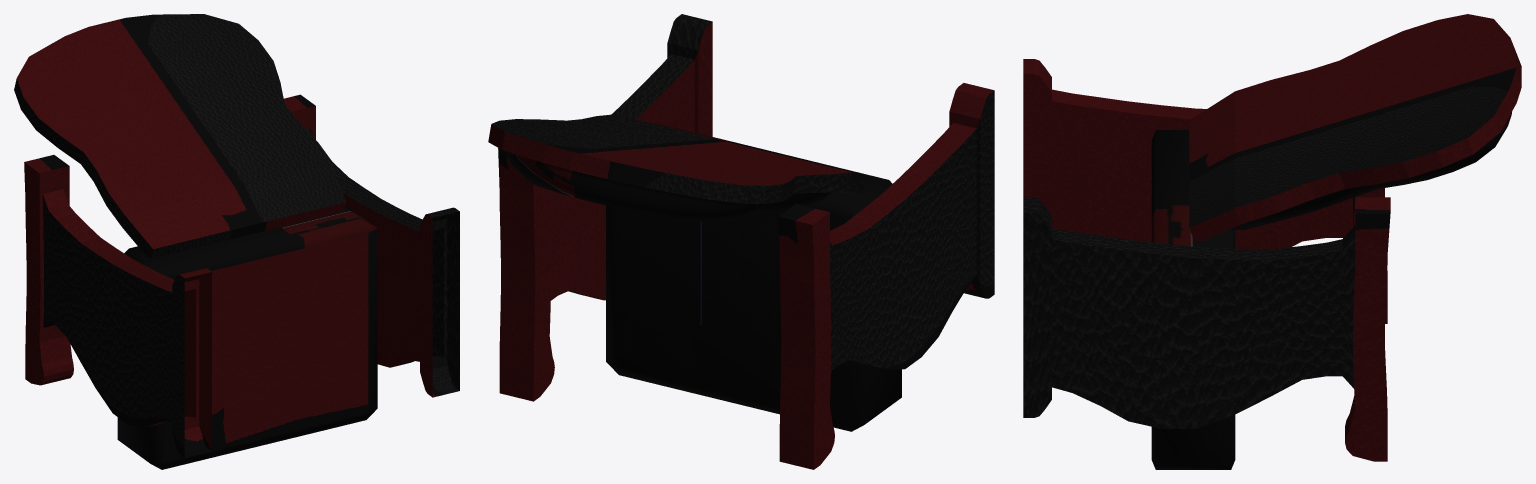
The model's file is theatreChair.obj.
3 renders of one model, left to right at view 1: azimuth 30°, elevation 25°; view 2: azimuth 150°, elevation 25°; view 3: azimuth 270°, elevation 25°, orthographic. The views are drawn at different scales.
Parts seen in each view (by area): view 1: theatreChair_chair; view 2: theatreChair_chair; view 3: theatreChair_chair.
Boxes of the visible parts, x1,y1,x2,y2 form: theatreChair_chair: [14, 14, 459, 469]; theatreChair_chair: [488, 14, 994, 469]; theatreChair_chair: [1023, 14, 1521, 469].
Bounding box in the file's own units: 0.996 × 1.06 × 1.36.
